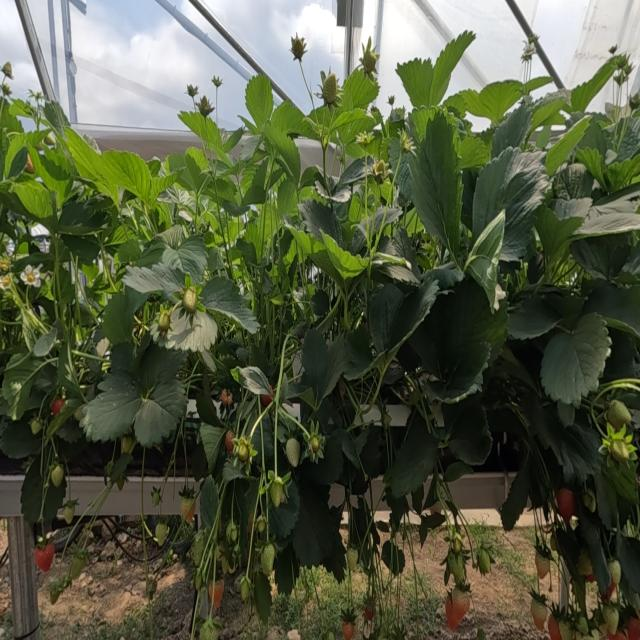Flowers: (520, 39, 535, 82), (613, 54, 631, 88), (20, 265, 41, 287), (0, 257, 10, 274), (0, 276, 11, 290)
Leaves: (473, 148, 548, 261), (408, 117, 463, 260), (541, 313, 611, 407), (292, 462, 344, 580), (449, 279, 507, 377), (88, 150, 167, 207), (385, 411, 437, 497), (463, 209, 505, 313), (80, 369, 140, 440), (2, 351, 57, 420), (427, 31, 475, 107), (134, 379, 187, 447), (386, 280, 439, 348), (20, 446, 66, 523), (433, 341, 491, 401), (200, 276, 259, 333), (150, 304, 218, 352), (66, 129, 112, 194), (573, 200, 640, 239), (103, 287, 147, 345), (449, 405, 492, 463), (508, 294, 562, 339), (369, 284, 404, 351), (140, 342, 185, 393), (321, 233, 367, 281), (159, 236, 208, 281), (301, 434, 343, 485), (179, 111, 228, 154), (265, 124, 300, 184), (122, 263, 184, 296), (299, 199, 342, 245), (477, 80, 523, 122), (301, 330, 329, 399), (396, 58, 434, 108), (317, 335, 346, 398), (0, 420, 41, 459), (245, 74, 273, 131), (343, 326, 373, 379), (12, 180, 52, 218), (170, 155, 206, 193), (31, 151, 71, 185), (214, 180, 248, 216), (271, 101, 307, 134), (107, 343, 136, 380), (199, 476, 219, 529), (454, 89, 489, 116), (33, 328, 57, 356)
Strawberries: (444, 520, 469, 586), (600, 421, 636, 462), (445, 588, 470, 630), (359, 37, 379, 79), (606, 400, 631, 430), (556, 487, 576, 522), (321, 72, 338, 107), (34, 543, 54, 572), (531, 599, 548, 630), (601, 605, 619, 634), (211, 75, 222, 122), (208, 579, 224, 609), (261, 544, 275, 574), (291, 34, 306, 62), (535, 552, 550, 579), (182, 287, 198, 312), (373, 159, 389, 184), (197, 95, 214, 117), (181, 497, 195, 523), (270, 481, 284, 507), (477, 547, 490, 575), (548, 615, 562, 639), (50, 464, 64, 487), (155, 523, 169, 546), (609, 559, 621, 585), (559, 620, 575, 639), (158, 310, 170, 334), (64, 502, 76, 524), (628, 617, 640, 639), (576, 615, 589, 635), (583, 491, 596, 511), (356, 132, 373, 147), (187, 84, 198, 106), (52, 398, 65, 416), (629, 91, 640, 111), (400, 131, 411, 151), (151, 487, 161, 506), (30, 418, 41, 434), (2, 62, 13, 78), (607, 631, 627, 639)
